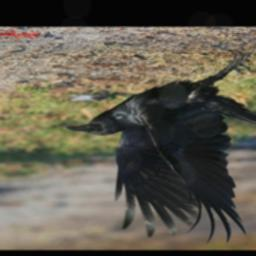Crow: (64, 49, 256, 245)
